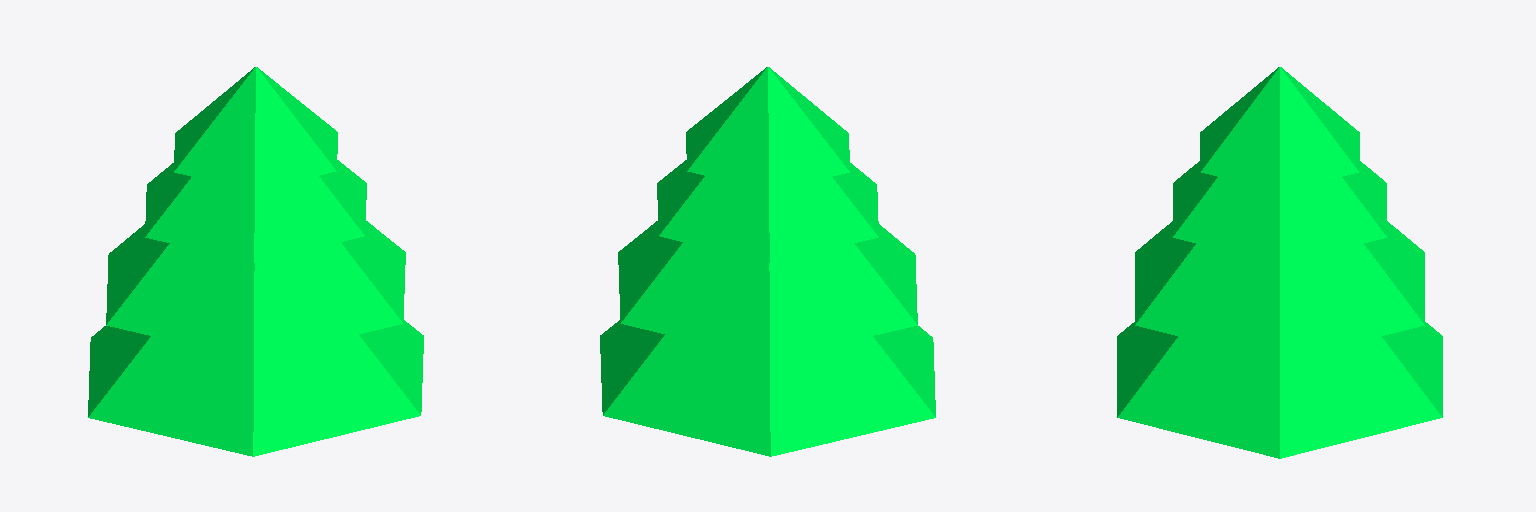
File: tree.obj
3 renders of one model, left to right at view 1: azimuth 30°, elevation 25°; view 2: azimuth 150°, elevation 25°; view 3: azimuth 270°, elevation 25°, orthographic.
Visible parts, largest first — view 1: polySurface12; view 2: polySurface12; view 3: polySurface12.
Boxes of the visible parts, <box> form: polySurface12: <box>88,67,423,456</box>; polySurface12: <box>600,67,935,456</box>; polySurface12: <box>1117,67,1442,458</box>.
Bounding box in the file's own units: 20.44 × 22.04 × 17.12.